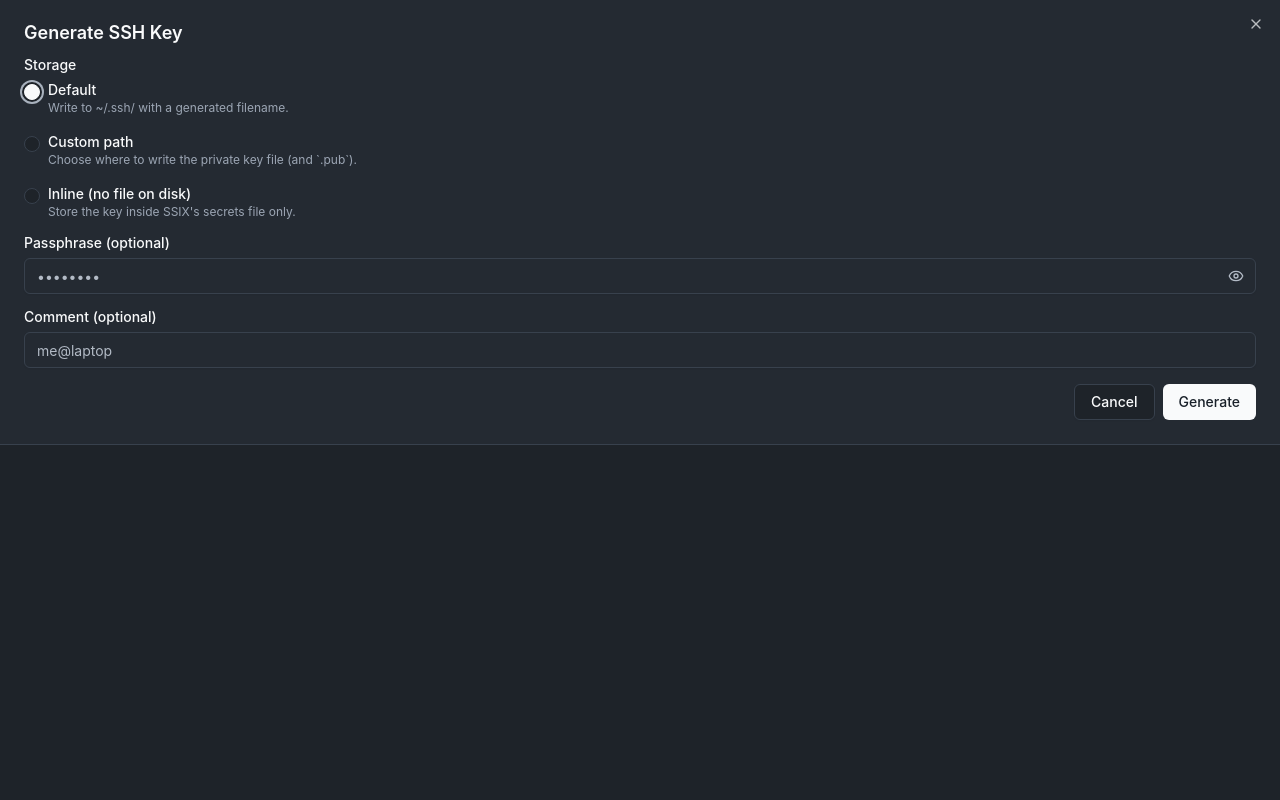
Test case: GenerateKeyDialog › blocks custom_path submit with an empty path and announces the error
Note: Switch to custom_path.
Click the radio button next to "Custom path".
click(32, 144)  # box x1=24 y1=136 x2=40 y2=152
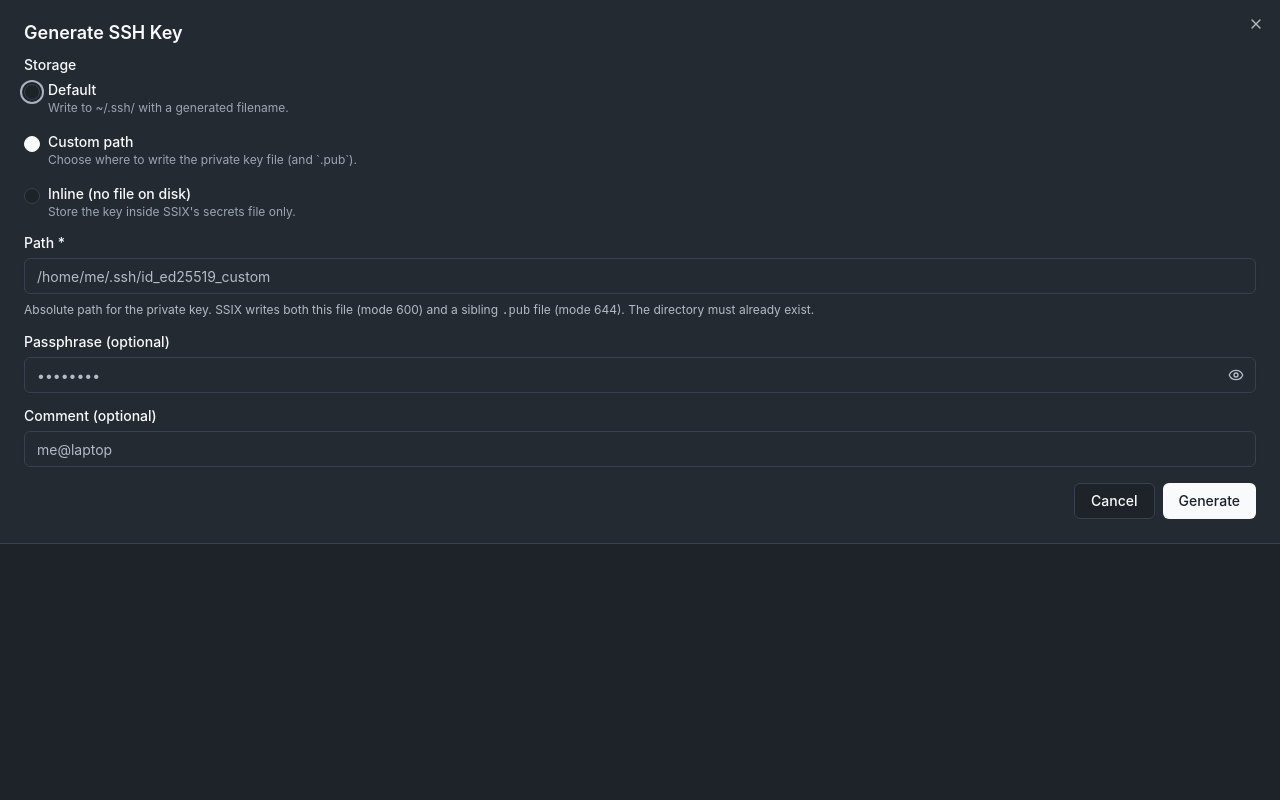
Click the button "Generate".
click(1209, 501)  # box x1=1162 y1=483 x2=1256 y2=519
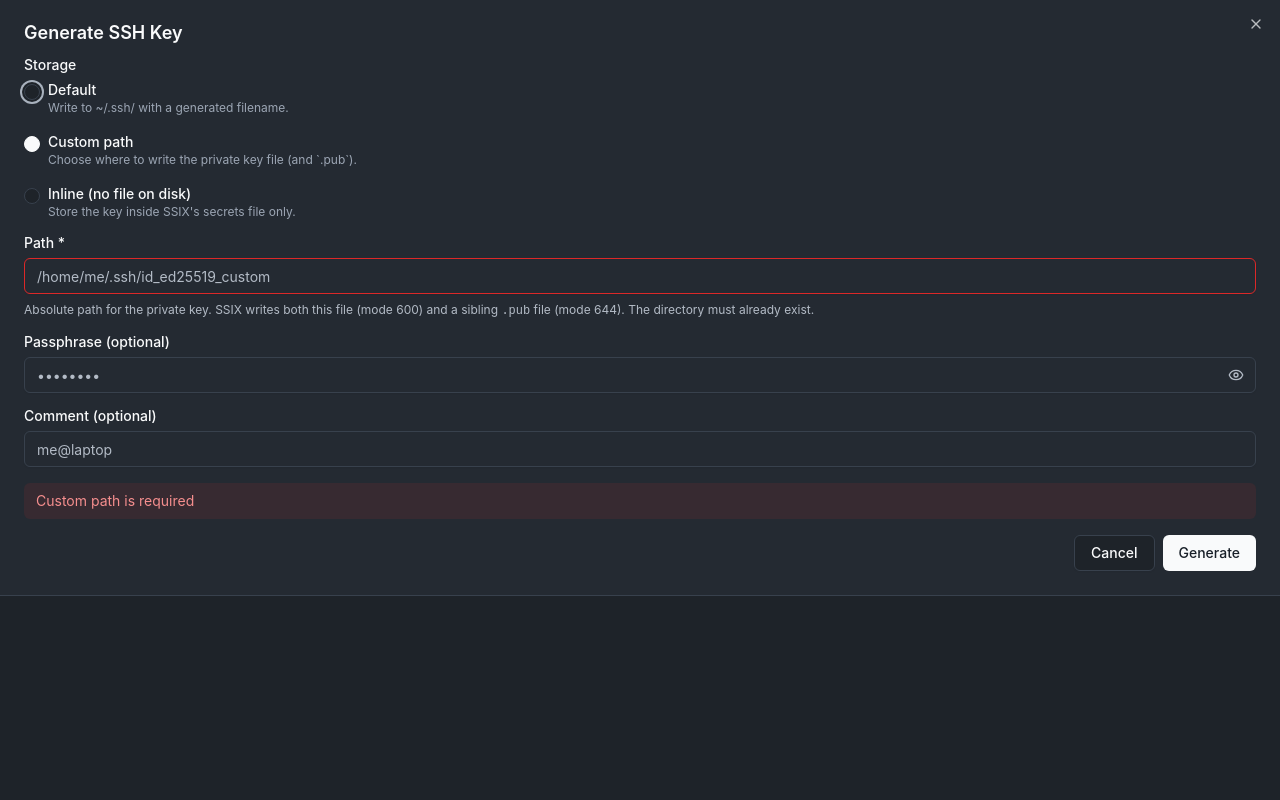
Expected: the message reads "Custom path is required", x1=36 y1=492 x2=194 y2=509
